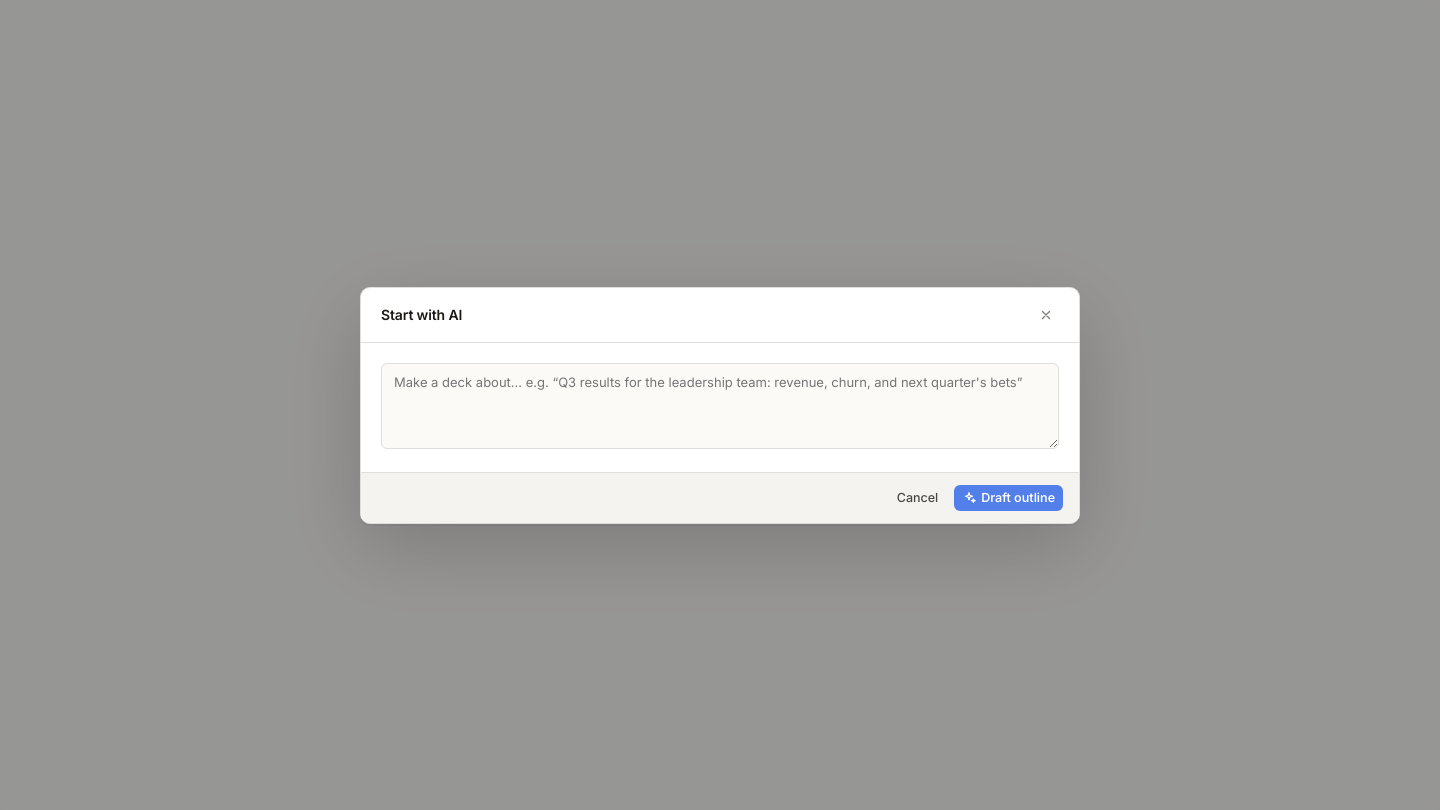
Test case: AiDeckModal › returns to the outline with an error when generation fails
The width and height of the screenshot is (1440, 810).
Replace the text in the text box named "Deck topic" with "our Q3 results" at (720, 406), box [381,362,1059,448]
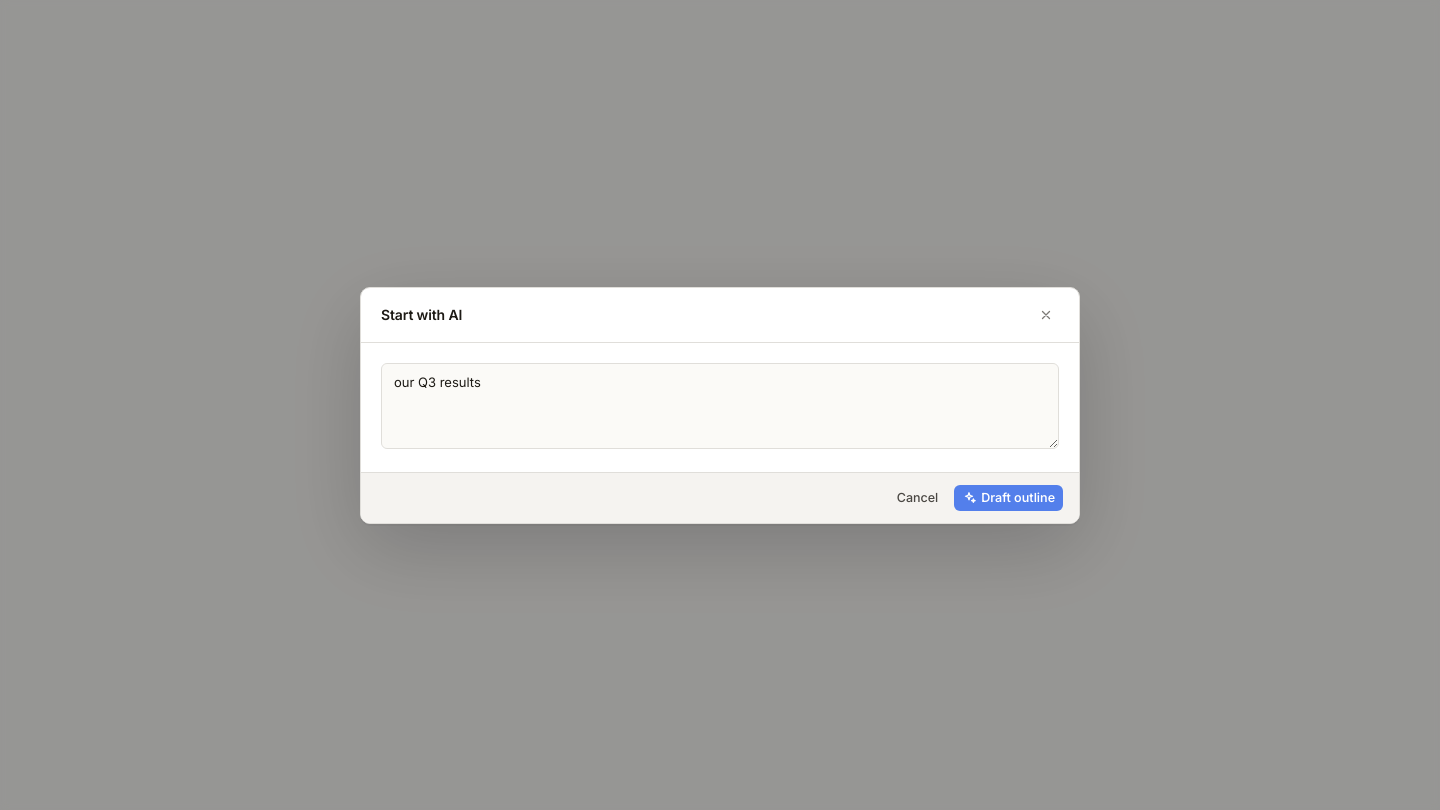
Click the button "Draft outline" at (1009, 498), box [954,484,1063,510]
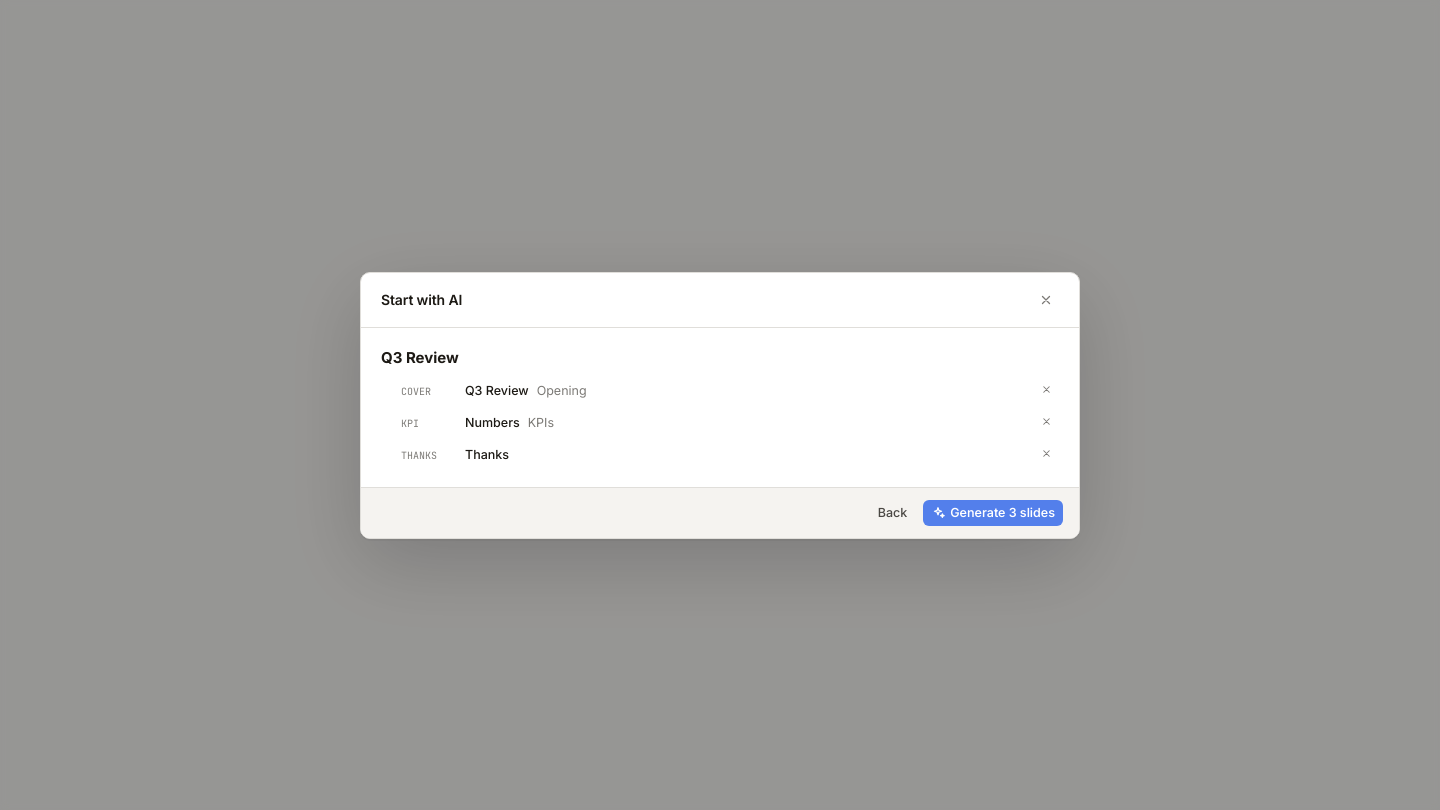
Click the button "Generate 3 slides" at (993, 512), box [923,500,1063,526]
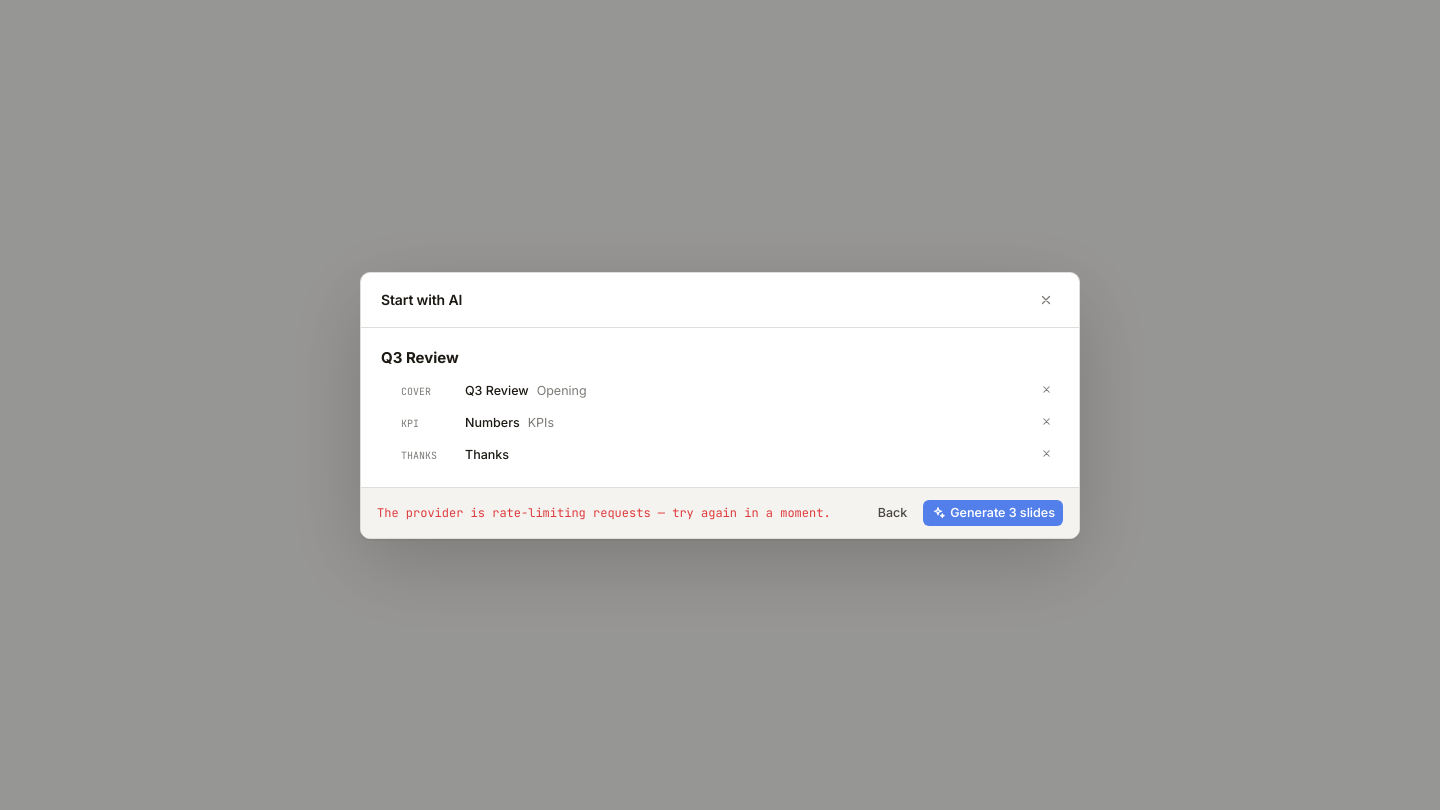
Check: the button "Generate 3 slides" is enabled, box [923,500,1063,526]
Check: the message shows "rate-limiting", box [377,504,831,520]
